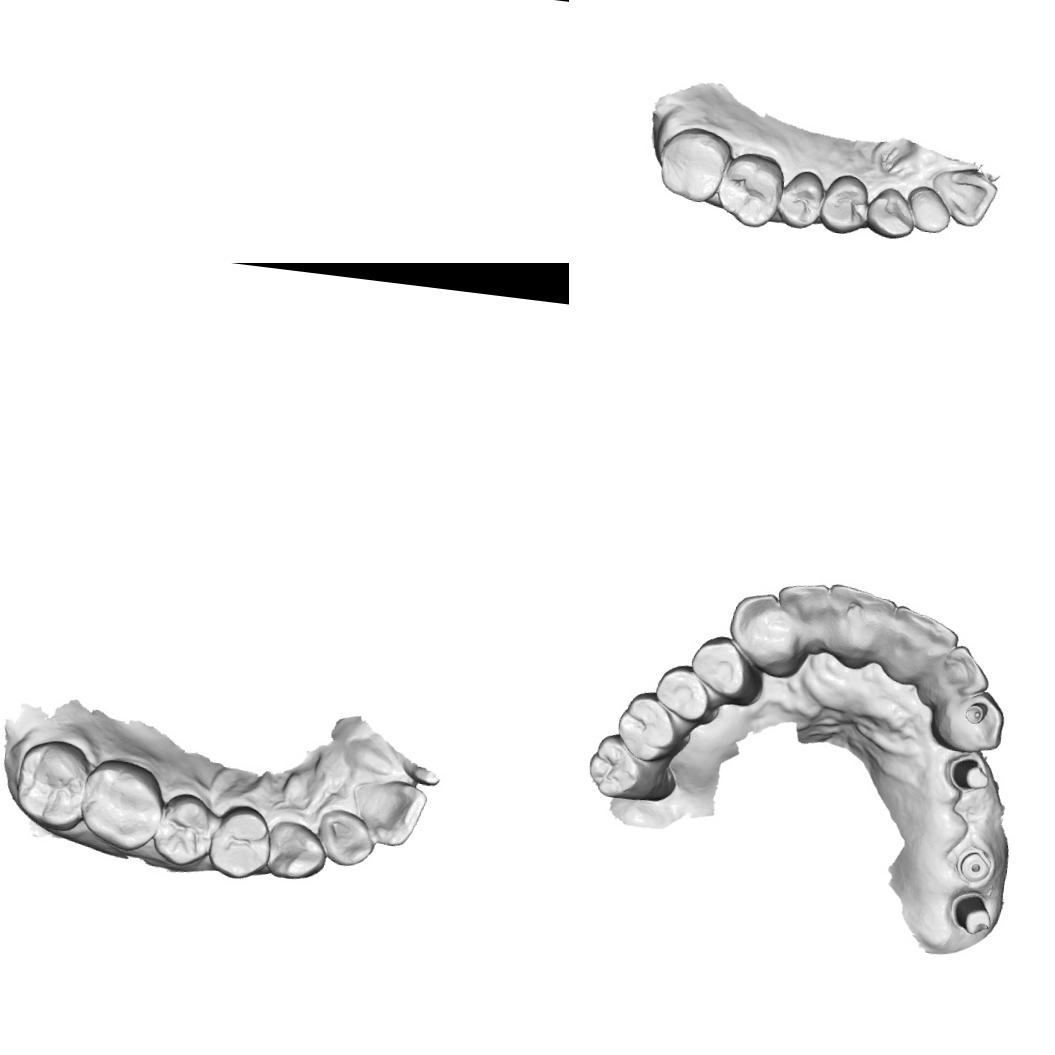abutment: (940, 749, 994, 796), (948, 889, 997, 937)
canine: (722, 588, 808, 681), (931, 685, 1010, 756), (262, 814, 331, 884), (865, 184, 920, 243)
implant: (954, 845, 994, 886)
incisor: (882, 602, 962, 692), (820, 580, 898, 670), (348, 771, 430, 849), (914, 640, 994, 712), (926, 162, 1001, 230), (772, 577, 833, 656), (312, 804, 380, 872), (906, 182, 956, 236)
molar: (75, 755, 167, 856), (5, 735, 94, 834), (583, 728, 681, 805), (652, 121, 734, 207), (612, 689, 694, 768), (714, 147, 786, 232)
premolar: (204, 800, 274, 886), (147, 788, 217, 872), (686, 631, 762, 705), (650, 658, 724, 726), (816, 170, 873, 238), (774, 166, 828, 232)
